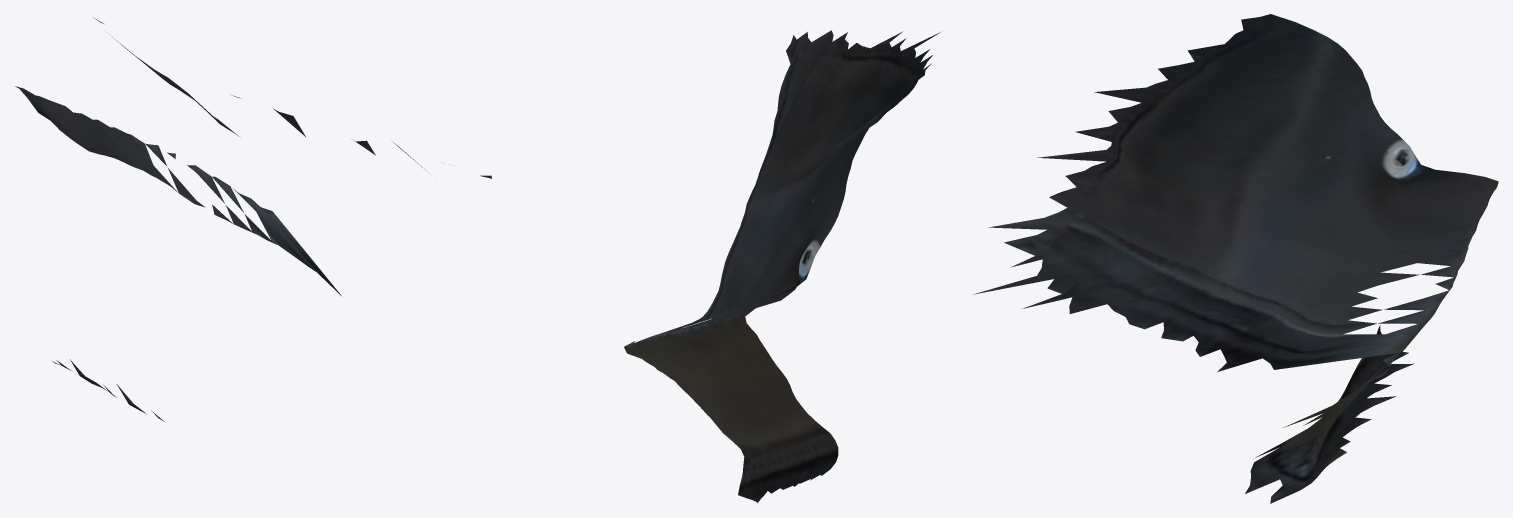
File: observed-surface.glb
3 renders of one model, left to right at view 1: azimuth 30°, elevation 25°; view 2: azimuth 150°, elevation 25°; view 3: azimuth 270°, elevation 25°, orthographic. The views are drawn at different scales.
Parts seen in each view (by area): view 1: geometry_0; view 2: geometry_0; view 3: geometry_0.
Part boxes in pixels (x1,y1,x2,y2): geometry_0: (15, 17, 491, 421); geometry_0: (624, 30, 940, 503); geometry_0: (973, 14, 1498, 503).
Size of the model in its own units: 0.3857 by 0.6286 by 0.7269.
Materials: 1 (1 with a texture image).
